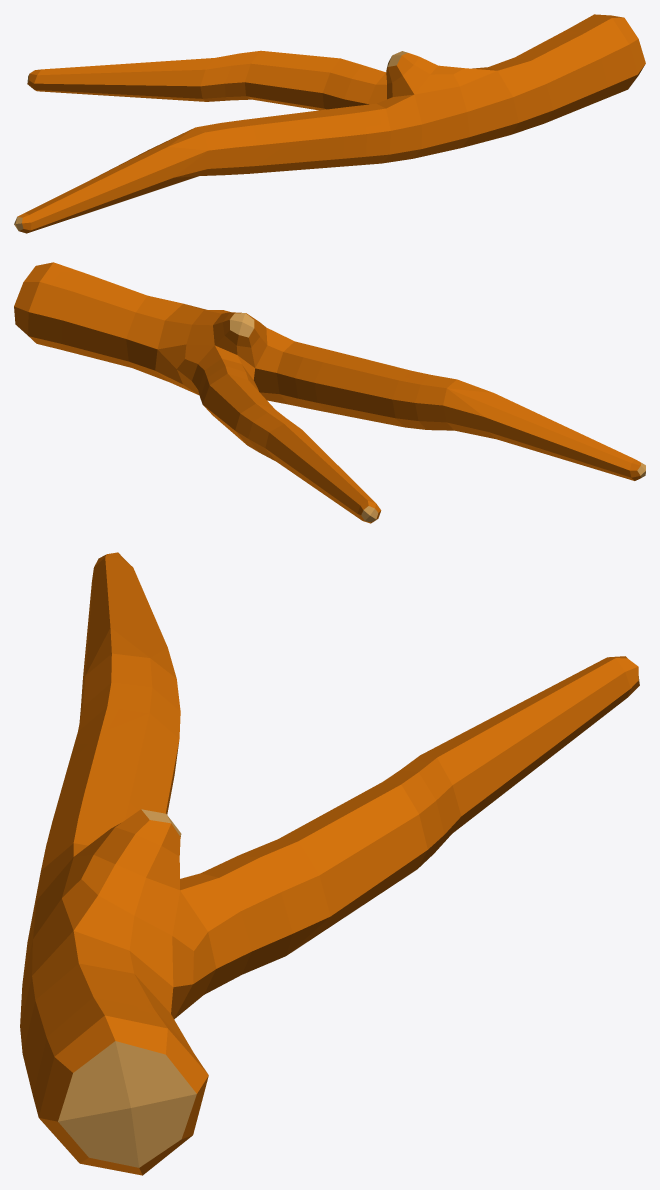
The model's file is Log04.fbx.
The picture shows the model from 3 angles, top to bottom: view 1: azimuth 30°, elevation 25°; view 2: azimuth 150°, elevation 25°; view 3: azimuth 270°, elevation 25°; orthographic projection. The views are drawn at different scales.
Visible parts, largest first — view 1: Plane; view 2: Plane; view 3: Plane.
Part boxes in pixels (x1,y1,x2,y2): Plane: [14, 14, 645, 233]; Plane: [14, 262, 645, 523]; Plane: [20, 552, 639, 1175].
Bounding box in the file's own units: 223 × 32.53 × 96.76.
